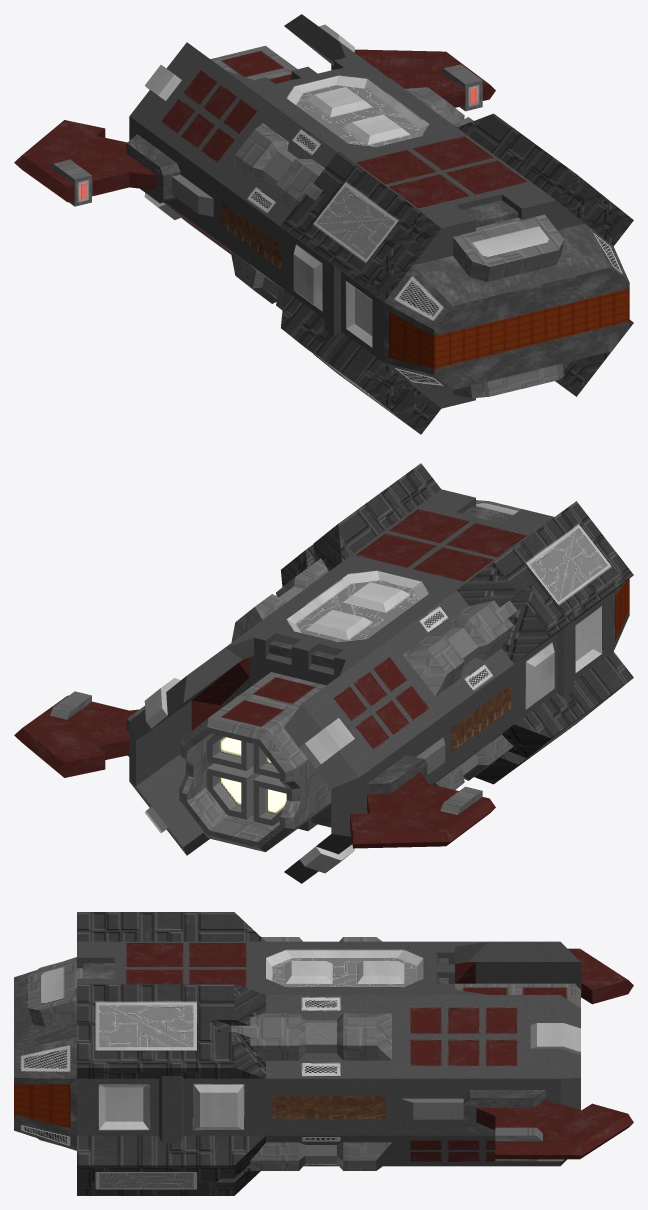
File: frigate-1-2.glb
3 renders of one model, top to bottom at view 1: azimuth 30°, elevation 25°; view 2: azimuth 150°, elevation 25°; view 3: azimuth 270°, elevation 25°, orthographic. The views are drawn at different scales.
Visible parts, largest first — view 1: frigate-1-2_0; view 2: frigate-1-2_0; view 3: frigate-1-2_0.
Part boxes in pixels (x1,y1,x2,y2): frigate-1-2_0: [14, 14, 633, 434]; frigate-1-2_0: [14, 463, 633, 883]; frigate-1-2_0: [14, 912, 633, 1195].
Size of the model in its own units: 0.7724 by 0.3768 by 1.
Materials: 1 (1 with a texture image).
